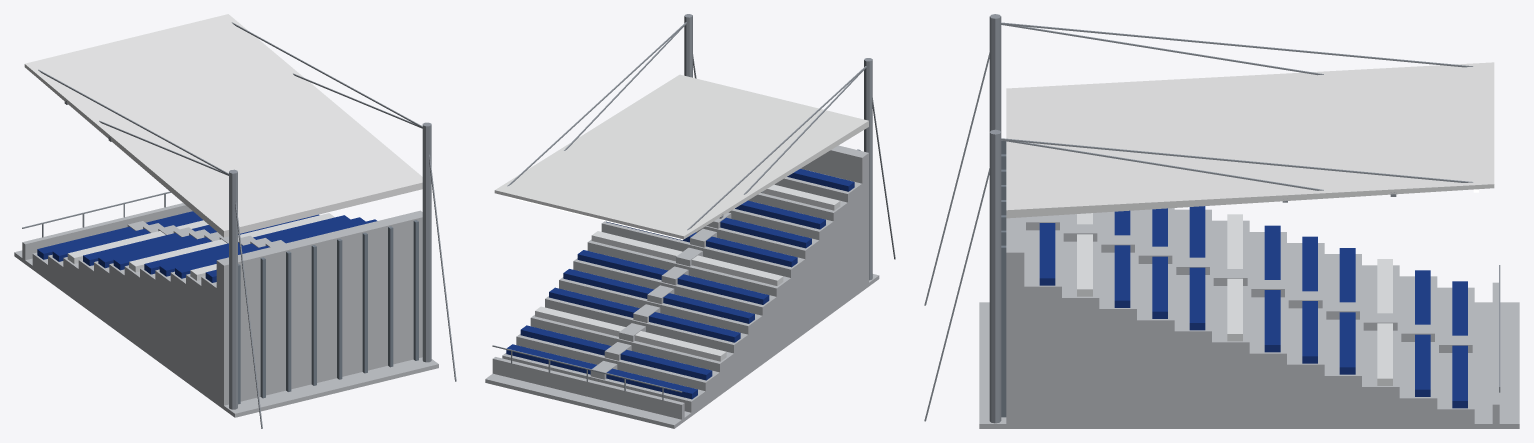
Rendered from grada-silverstone.glb.
3 renders of one model, left to right at view 1: azimuth 30°, elevation 25°; view 2: azimuth 150°, elevation 25°; view 3: azimuth 270°, elevation 25°, orthographic. The views are drawn at different scales.
Parts seen in each view (by area): view 1: grada-silverstone; view 2: grada-silverstone; view 3: grada-silverstone.
Part boxes in pixels (x1,y1,x2,y2): grada-silverstone: [14, 14, 456, 428]; grada-silverstone: [485, 14, 895, 428]; grada-silverstone: [924, 14, 1519, 428].
Bounding box in the file's own units: 16 × 18 × 33.04.
